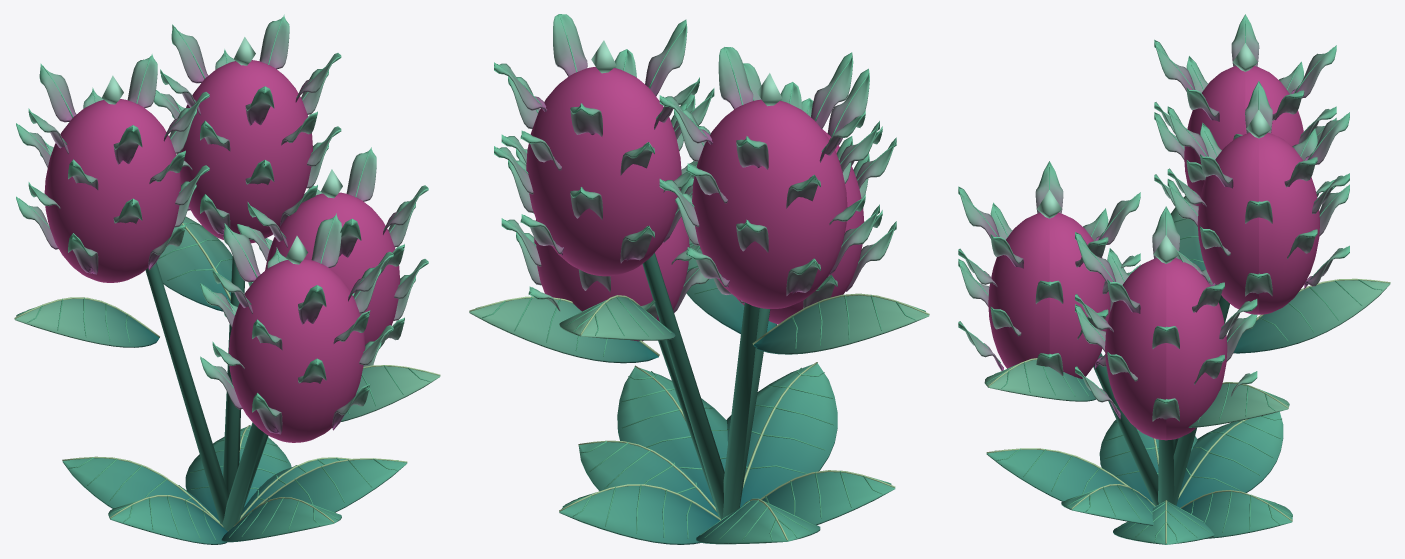
The model's file is enchanted-rainfruit.glb.
3 renders of one model, left to right at view 1: azimuth 30°, elevation 25°; view 2: azimuth 150°, elevation 25°; view 3: azimuth 270°, elevation 25°, orthographic. The views are drawn at different scales.
Parts seen in each view (by area): view 1: enchanted-rainfruit-sculpted-details; view 2: enchanted-rainfruit-sculpted-details; view 3: enchanted-rainfruit-sculpted-details.
Part boxes in pixels (left/top/right/bottom): enchanted-rainfruit-sculpted-details: left=14, top=14, right=440, bottom=544; enchanted-rainfruit-sculpted-details: left=469, top=14, right=929, bottom=544; enchanted-rainfruit-sculpted-details: left=958, top=14, right=1390, bottom=544.
Bounding box in the file's own units: 0.8941 × 1 × 0.8885.
